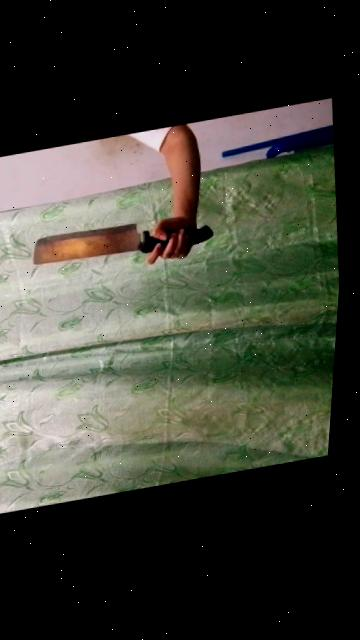long knife: (28, 202, 225, 286)
